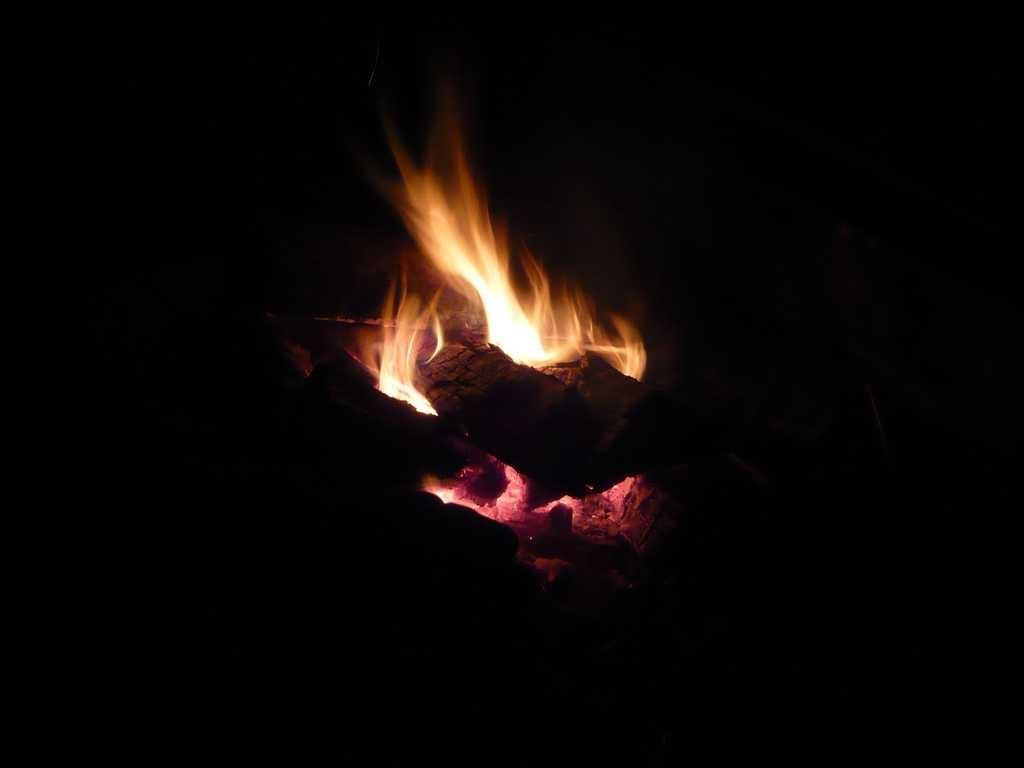fire: (418, 196, 508, 298), (380, 324, 422, 406), (494, 298, 570, 334)
